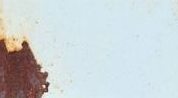Corrosion: (1, 33, 51, 98)
